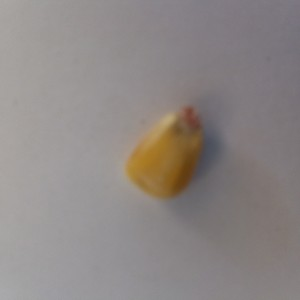maiz: (118, 97, 212, 207)
